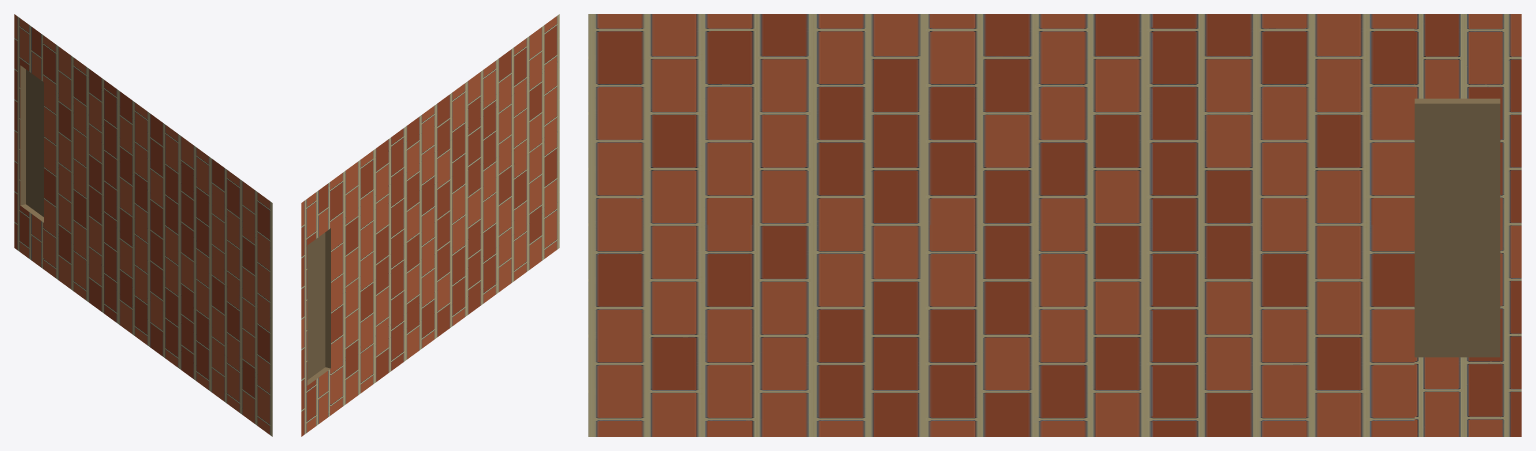
The model's file is wall06.fbx.
3 renders of one model, left to right at view 1: azimuth 30°, elevation 25°; view 2: azimuth 150°, elevation 25°; view 3: azimuth 270°, elevation 25°, orthographic. The views are drawn at different scales.
Visible parts, largest first — view 1: Cube; view 2: Cube; view 3: Cube.
Boxes of the visible parts, <box> form: Cube: <box>14,14,272,436</box>; Cube: <box>301,14,559,436</box>; Cube: <box>588,14,1521,436</box>.
Size of the model in its own units: 5 by 200 by 400.
